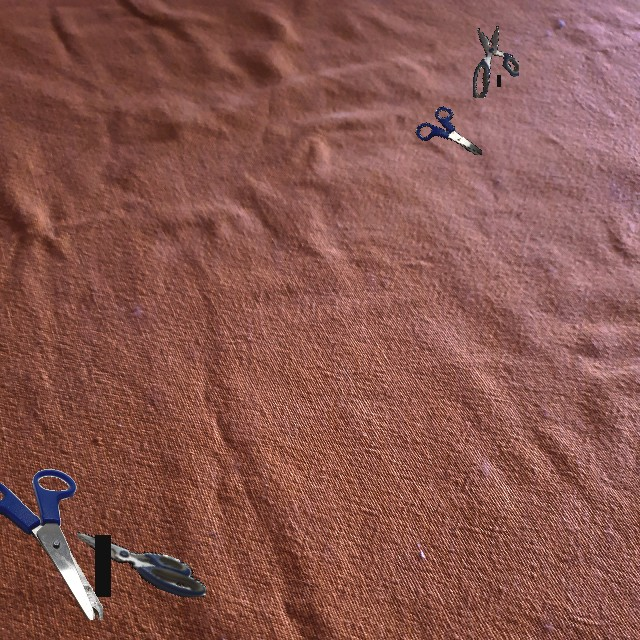scissors: (0, 469, 103, 620), (77, 532, 206, 597), (473, 26, 519, 98), (415, 106, 482, 155)
